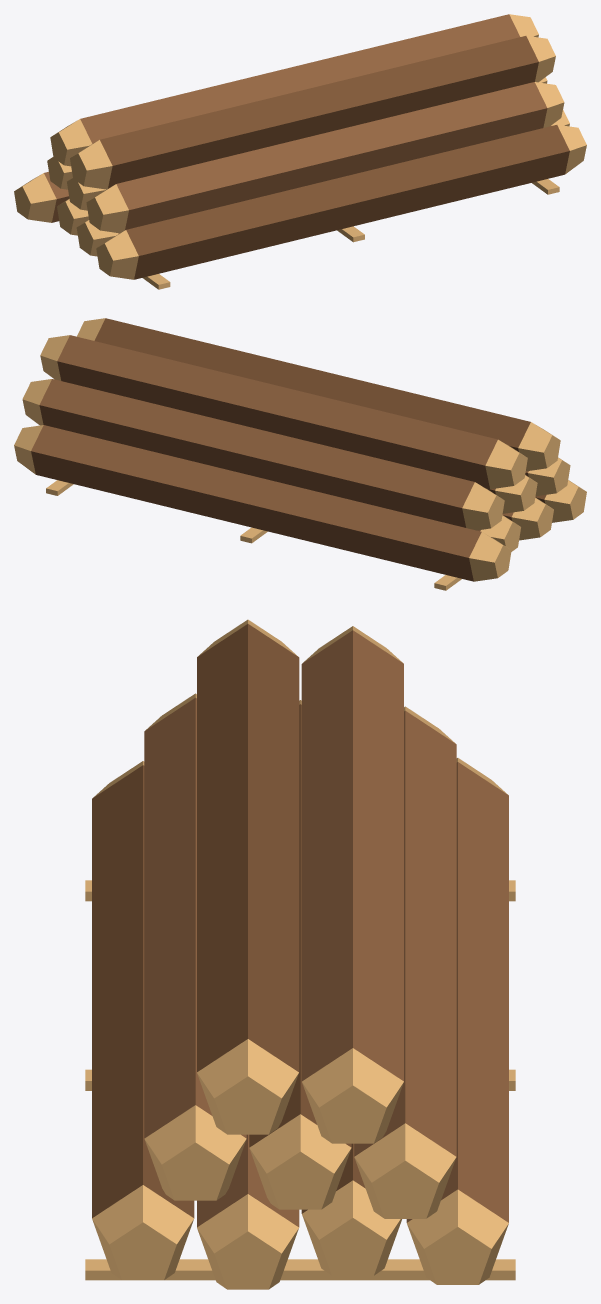
File: pile_logs_3.glb
3 views of the same model, one above another, from view 1: azimuth 30°, elevation 25°; view 2: azimuth 150°, elevation 25°; view 3: azimuth 270°, elevation 25° (orthographic). The views are drawn at different scales.
Parts seen in each view (by area): view 1: pile_logs_3; view 2: pile_logs_3; view 3: pile_logs_3.
Boxes of the visible parts, x1,y1,x2,y2 form: pile_logs_3: (14, 14, 586, 289); pile_logs_3: (14, 318, 586, 590); pile_logs_3: (85, 619, 515, 1289).
Bounding box in the file's own units: 12.5 × 3.06 × 4.8.
